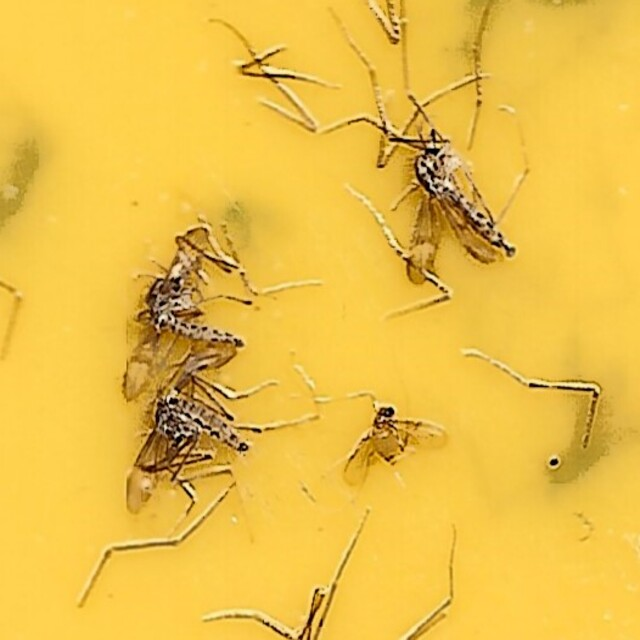Nematocera: (122, 223, 246, 405), (124, 343, 251, 510), (399, 130, 518, 292), (331, 399, 447, 487)
